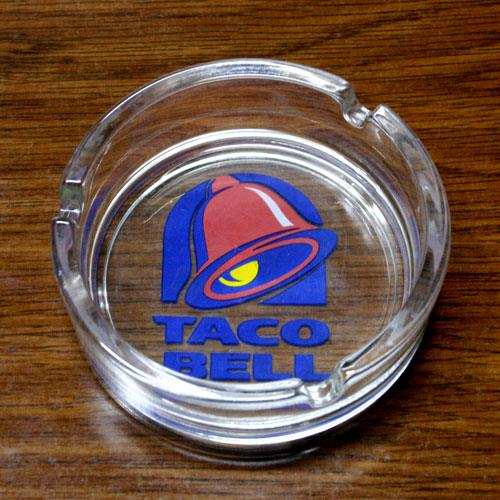Taco_Bell: (157, 173, 347, 386)
